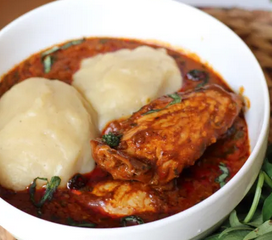legumes verts: (28, 176, 61, 204)
placali: (4, 88, 87, 172)
poulet: (149, 100, 193, 160)
sauce groundnut: (48, 46, 75, 79)
